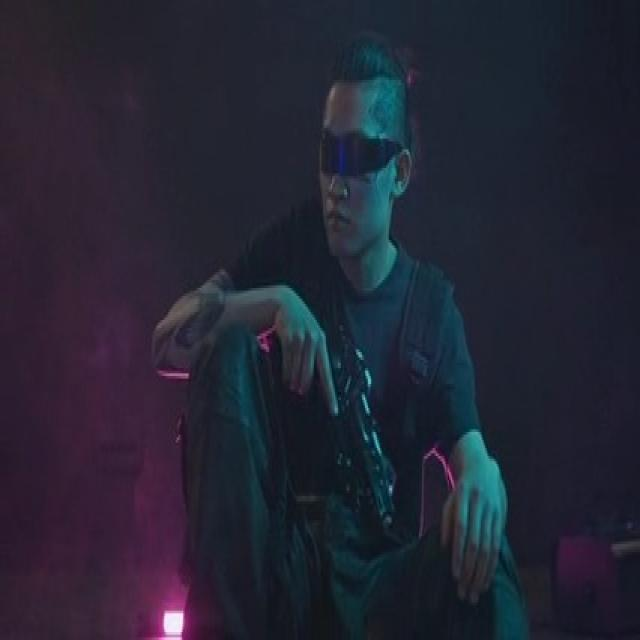Gun_Holder: (292, 311, 403, 543)
Person: (144, 31, 546, 640)
